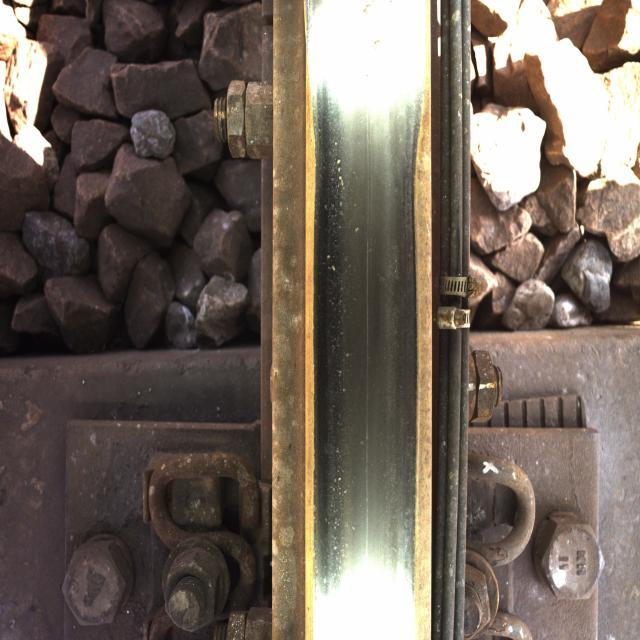normal: (305, 83, 404, 606)
